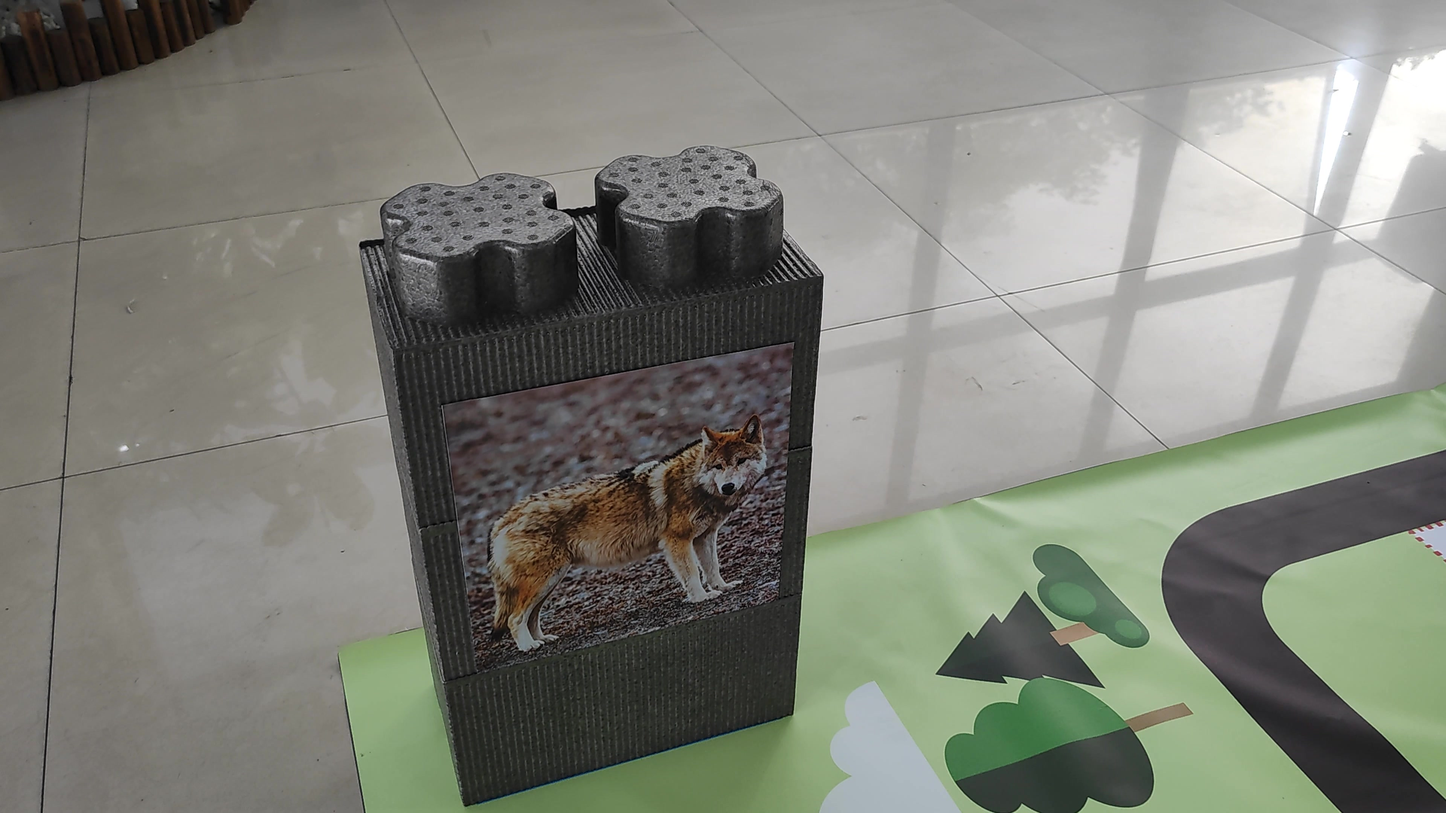wolf: (445, 365, 787, 670)
